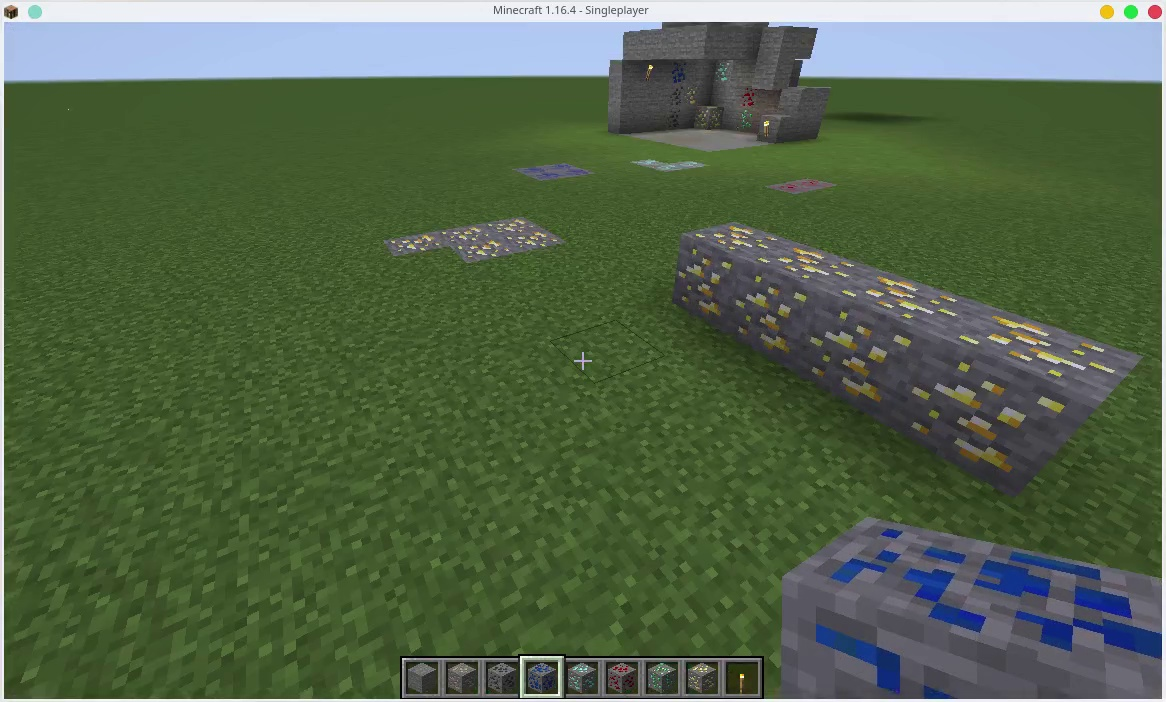gold: (936, 335, 1107, 494), (827, 276, 910, 416), (735, 246, 820, 381), (675, 225, 730, 331), (462, 240, 516, 261), (683, 663, 718, 692), (510, 231, 561, 249), (445, 223, 483, 243), (487, 219, 533, 235), (403, 234, 439, 254), (698, 103, 723, 126), (684, 86, 696, 99)
